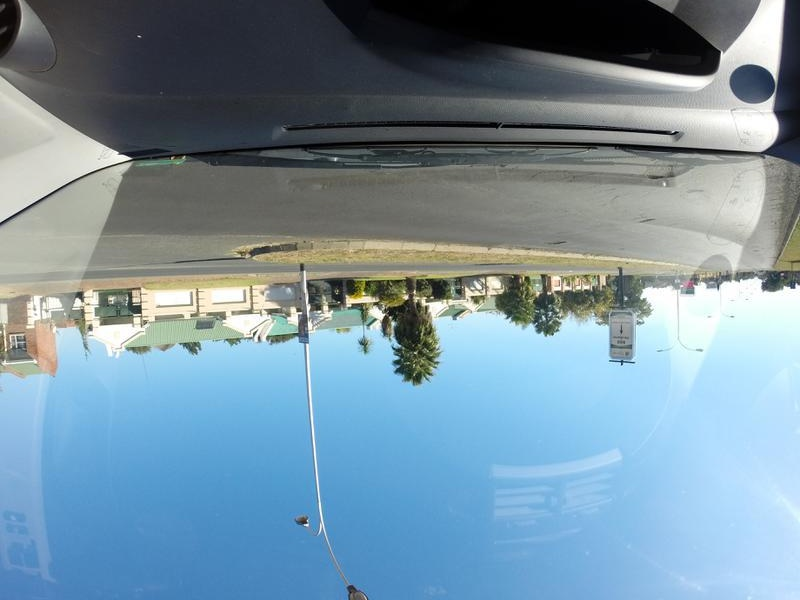pothole: (679, 187, 708, 197), (548, 239, 568, 247), (635, 216, 655, 221)
